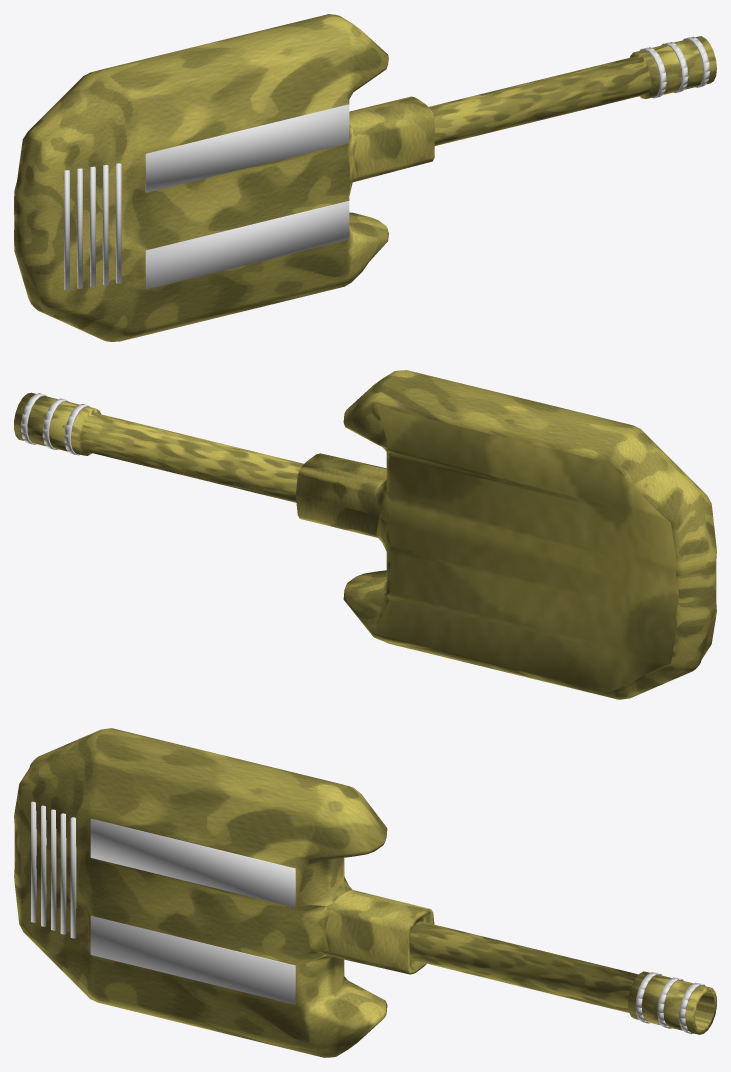
File: Heavy Cannon.fbx
3 views of the same model, one above another, from view 1: azimuth 30°, elevation 25°; view 2: azimuth 150°, elevation 25°; view 3: azimuth 330°, elevation 25° (orthographic).
Visible parts, largest first — view 1: Body0, Color0, Body1, Color1; view 2: Body0, Body1, Color1; view 3: Body0, Color0, Body1, Color1.
Part boxes in pixels (x1=…): Body0: x1=14, y1=14, x2=434, y2=341; Color0: x1=64, y1=104, x2=349, y2=290; Body1: x1=429, y1=36, x2=716, y2=145; Color1: x1=639, y1=36, x2=709, y2=98; Body0: x1=295, y1=370, x2=716, y2=699; Body1: x1=14, y1=392, x2=303, y2=502; Color1: x1=21, y1=393, x2=90, y2=455; Body0: x1=14, y1=728, x2=434, y2=1057; Color0: x1=31, y1=801, x2=295, y2=1004; Body1: x1=409, y1=921, x2=716, y2=1034; Color1: x1=635, y1=972, x2=705, y2=1034.
Size of the model in its own units: 91.27 by 33.66 by 10.49.
Materials: 1 (1 with a texture image).
